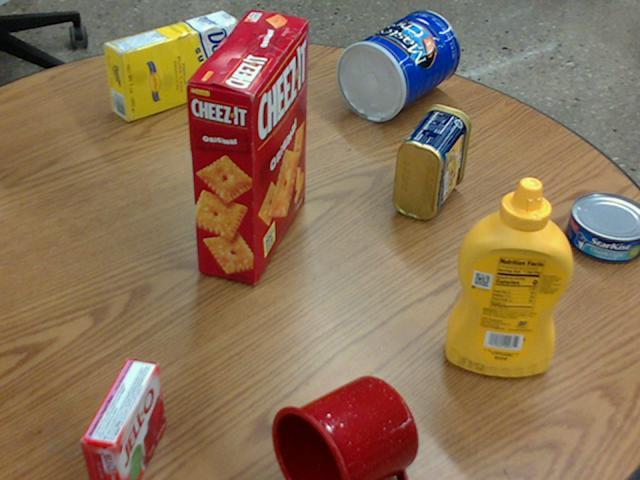cracker_box: (186, 10, 309, 284)
gelatin_box: (75, 359, 161, 479)
master_chef_can: (334, 10, 458, 120)
mug: (268, 376, 416, 479)
mustard_bottle: (443, 177, 571, 375)
potted_meat_can: (393, 104, 469, 218)
sugar_box: (103, 9, 240, 119)
tuna_fish_can: (564, 192, 639, 262)
